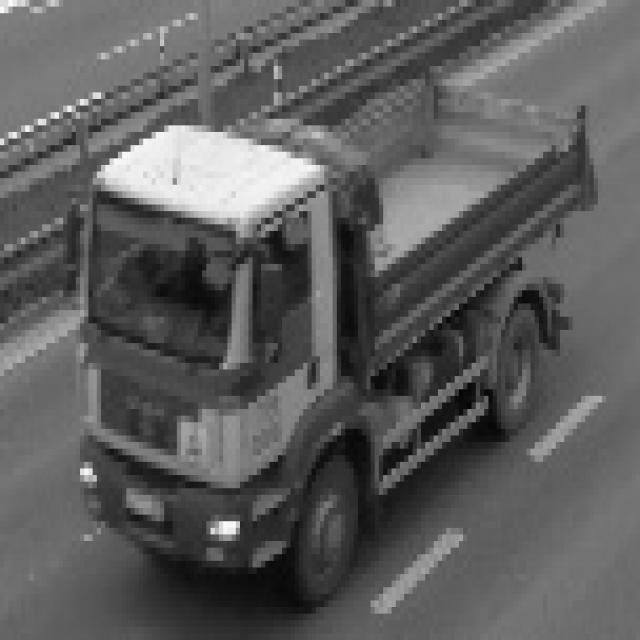truck: (59, 105, 400, 595)
